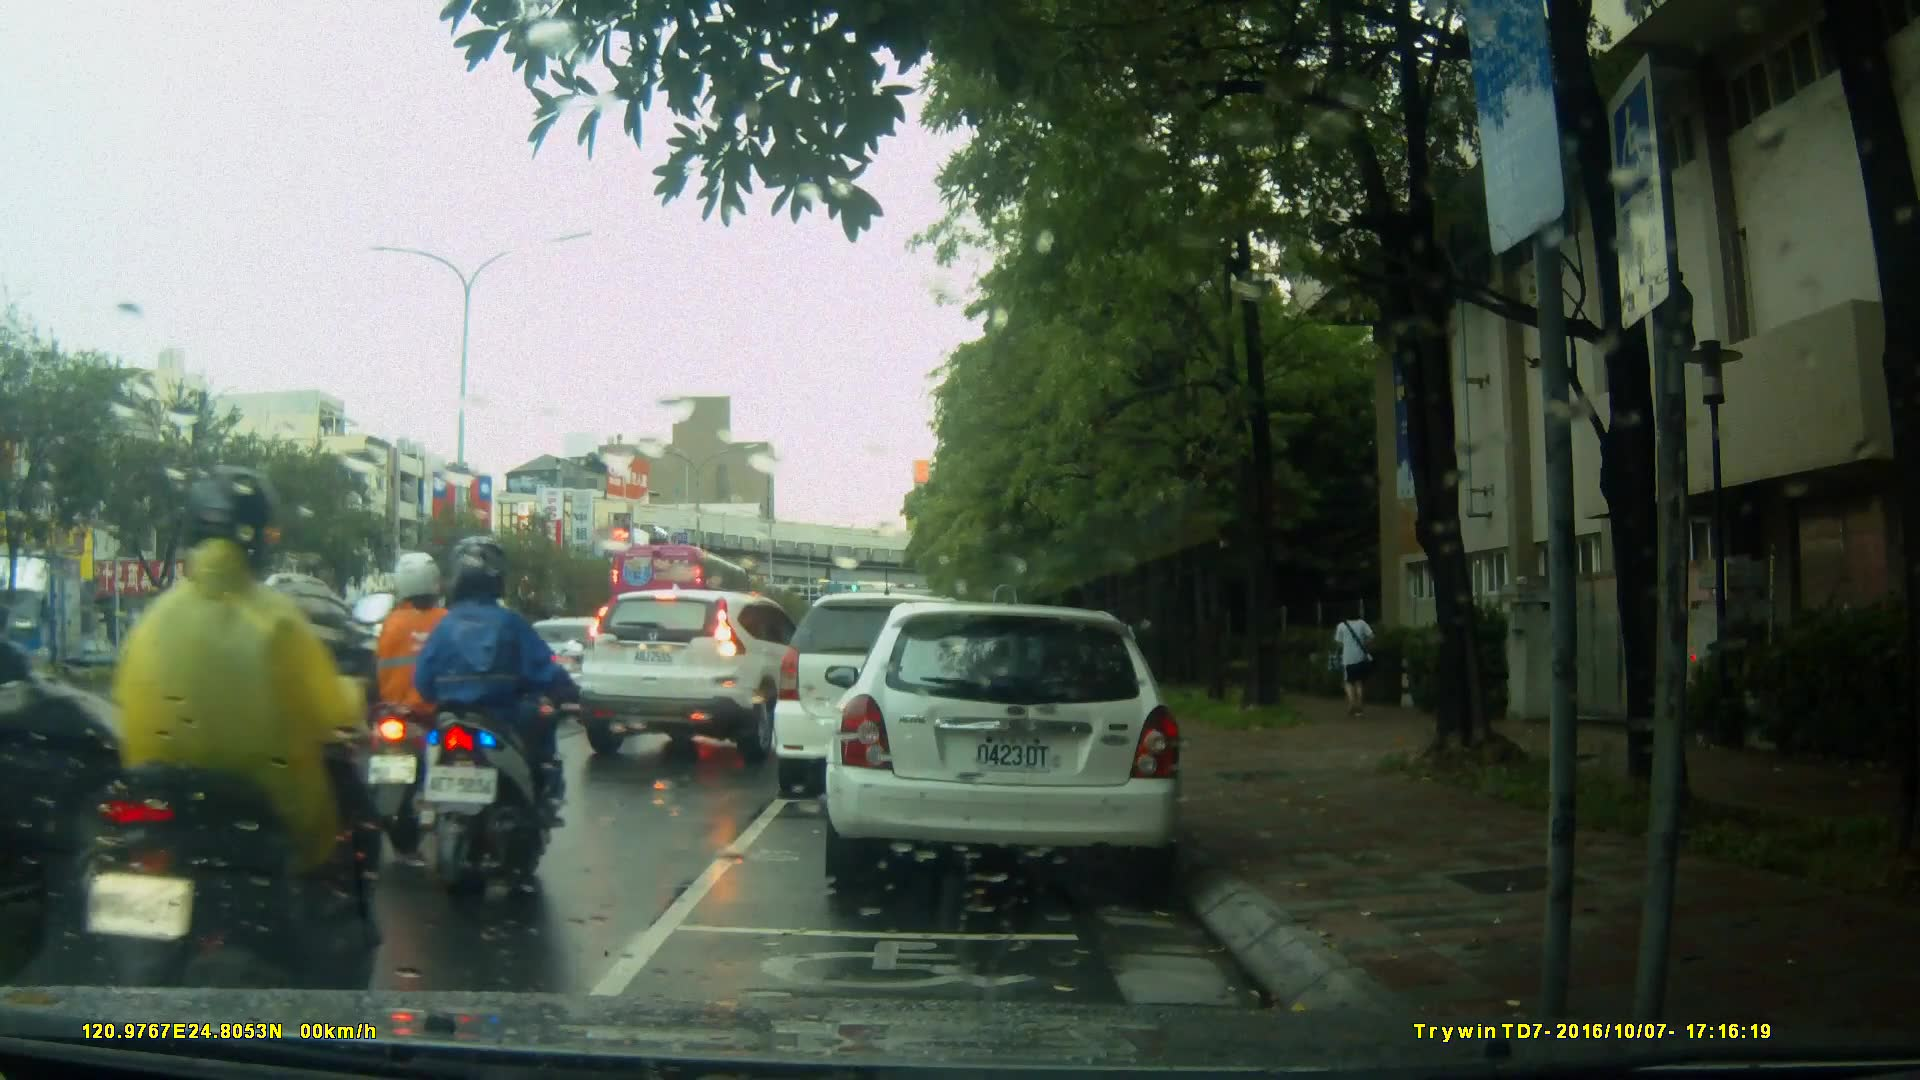pedestrian: (1321, 592, 1381, 732)
rider: (71, 477, 371, 1028), (408, 539, 571, 894), (359, 546, 486, 868)
vehicle: (835, 594, 1194, 898), (112, 567, 383, 757), (566, 585, 839, 770), (776, 590, 1026, 784), (609, 541, 751, 636)
